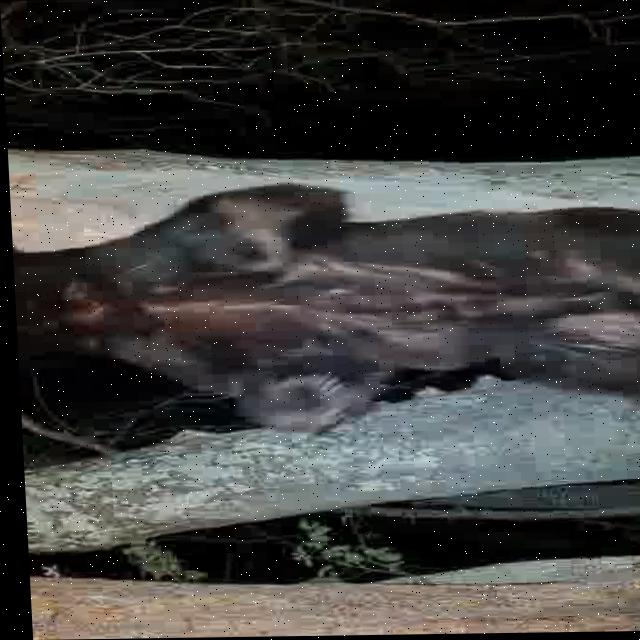bear face: (8, 180, 640, 434)
